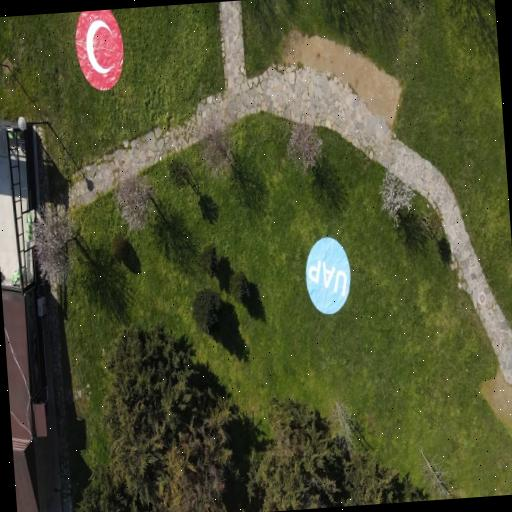UAI: (76, 10, 124, 91)
UAP: (306, 238, 351, 314)
